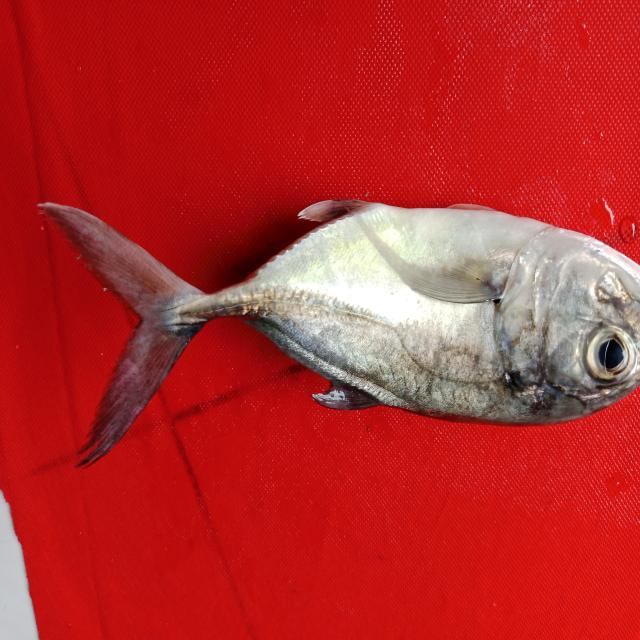ikan: (31, 160, 632, 478)
